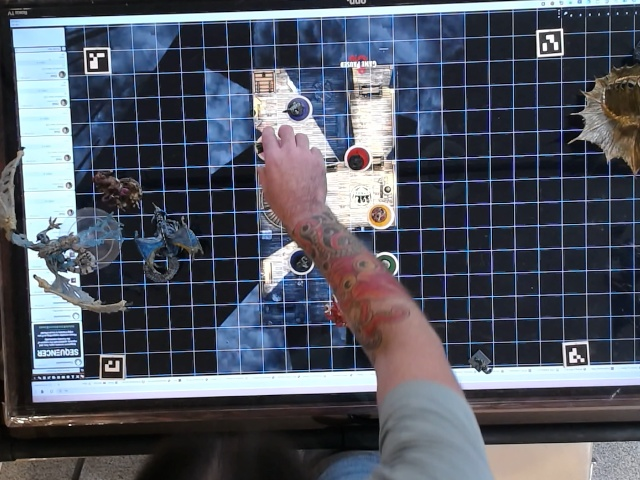blue: (284, 244, 318, 276)
green: (370, 249, 404, 279)
pink: (254, 129, 287, 163)
red: (343, 141, 372, 173)
violet: (283, 95, 318, 125)
yellow: (365, 202, 395, 231)
